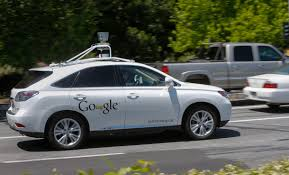car: (6, 59, 241, 140)
